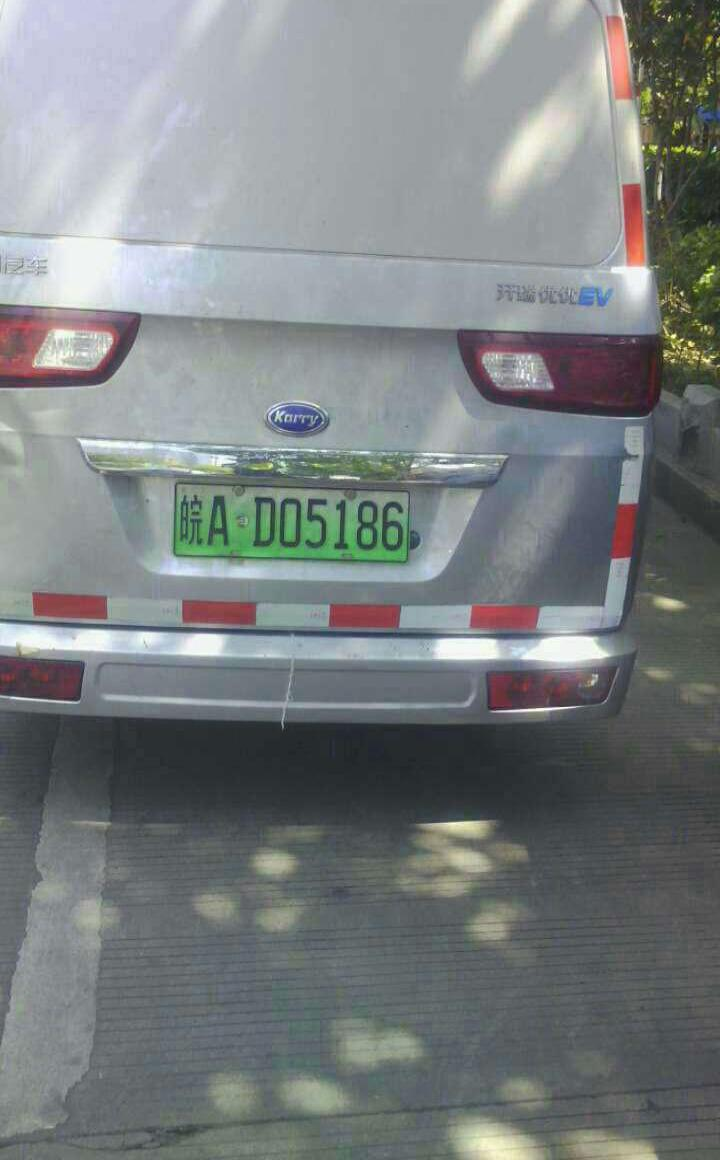car_id: (174, 484, 406, 560)
